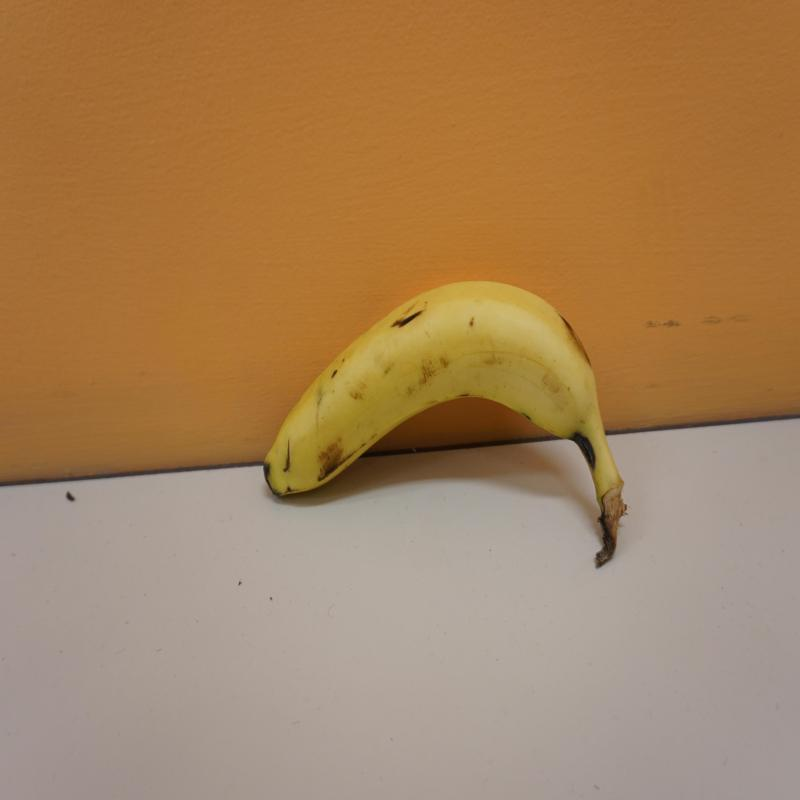Banana: (263, 282, 626, 569)
